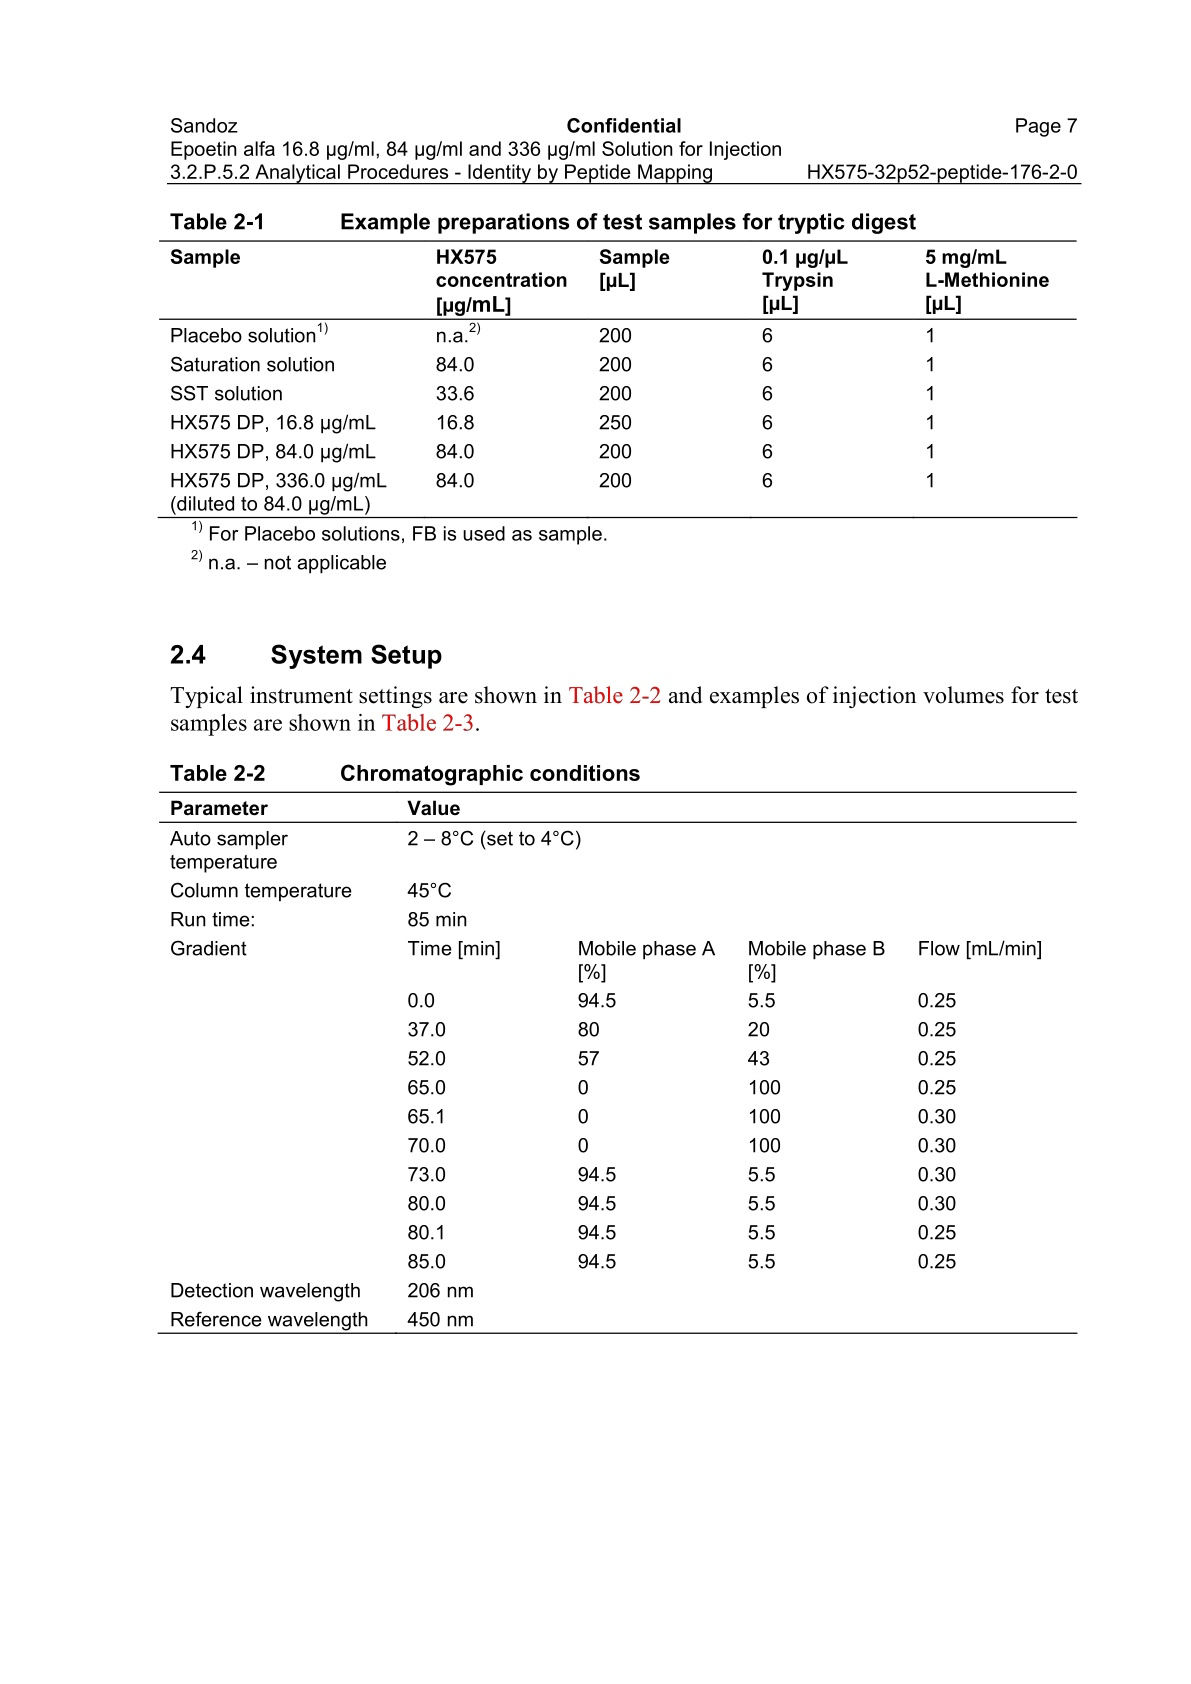partial_lined: (159, 790, 1076, 1334), (159, 238, 1078, 519)
